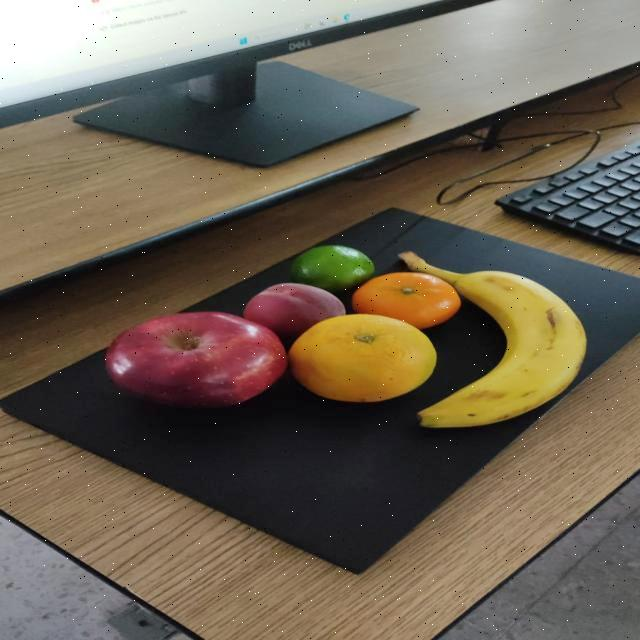Apel Merah: (102, 309, 288, 412)
Jeruk: (279, 309, 447, 409)
Jeruk Mandarin: (340, 268, 470, 329)
Lemon: (283, 236, 381, 294)
Persik: (237, 279, 351, 343)
Pisang: (388, 245, 596, 435)
